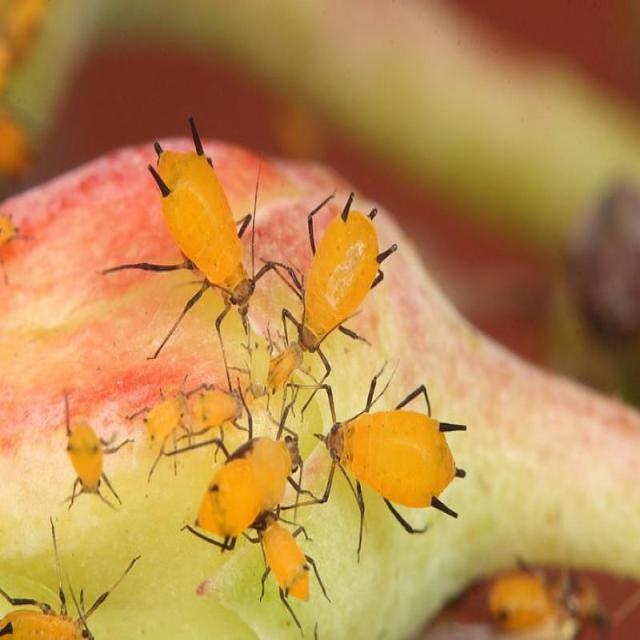Aphids: (95, 127, 293, 365), (257, 173, 403, 394), (295, 374, 479, 539), (170, 418, 306, 552), (52, 404, 129, 522), (185, 380, 242, 439), (140, 390, 184, 458), (316, 615, 318, 616)
